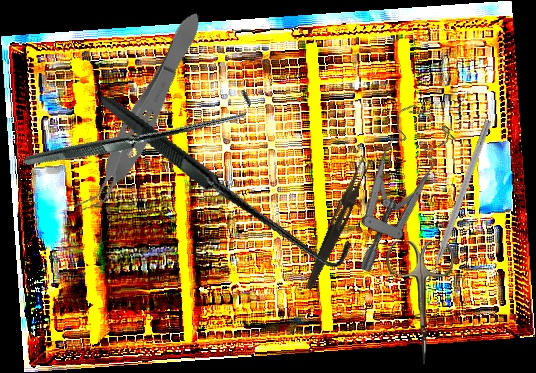Chopper: (415, 115, 493, 288)
Dressing Forceps: (303, 154, 373, 293)
Hook Surgical: (100, 45, 355, 313), (22, 14, 256, 245)
Iris Scissors: (385, 240, 458, 365)
Speculum: (302, 95, 481, 275)
Tissue Forceps: (70, 3, 214, 228)
